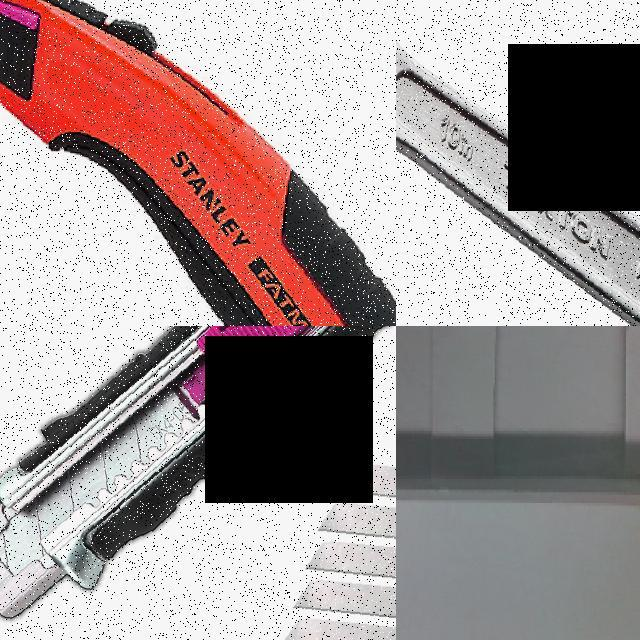estilete: (0, 326, 328, 617)
